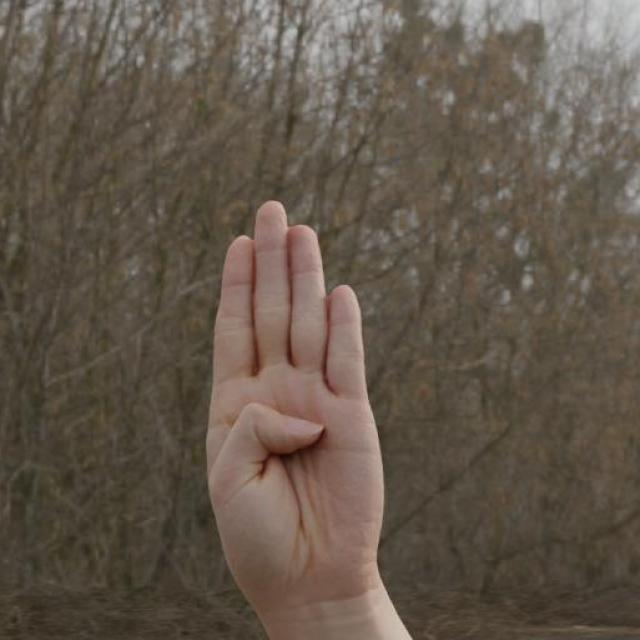B: (204, 196, 390, 589)
